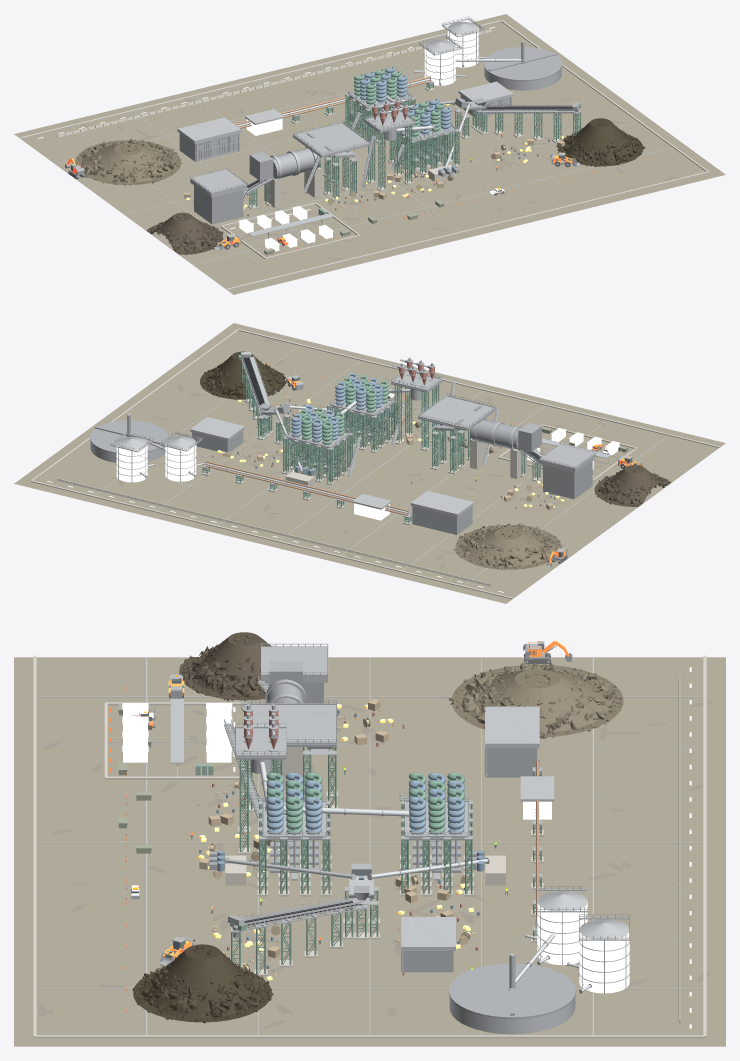
File: washplant.glb
3 views of the same model, one above another, from view 1: azimuth 30°, elevation 25°; view 2: azimuth 150°, elevation 25°; view 3: azimuth 270°, elevation 25° (orthographic). The views are drawn at different scales.
Visible parts, largest first — view 1: structure/mat_8b8166_46, galv/galv, structure/green, structure/concrete, structure/steelD, structure/seam, structure/waste, structure/roof, structure/white, structure/oreRich, scree/waste, structure/clad (+12 smaller); view 2: structure/mat_8b8166_46, structure/green, galv/galv, structure/concrete, structure/steelD, structure/waste, structure/seam, structure/white, structure/clad, structure/roof, scree/waste, structure/blue (+11 smaller); view 3: structure/mat_8b8166_46, galv/galv, structure/concrete, structure/green, structure/steelD, structure/seam, structure/roof, structure/waste, structure/white, structure/oreRich, structure/blue, scree/waste (+12 smaller).
Part boxes in pixels (x1,y1,x2,y2): structure/mat_8b8166_46: (14,14,725,294); galv/galv: (190,16,581,240); structure/green: (249,68,581,207); structure/concrete: (20,20,708,290); structure/steelD: (194,47,579,224); structure/seam: (55,34,671,276); structure/waste: (75,140,181,185); structure/roof: (177,81,513,236); structure/white: (38,27,494,229); structure/oreRich: (558,118,643,166); scree/waste: (75,139,181,185); structure/clad: (179,95,511,180); structure/mat_8b8166_46: (14,323,725,603); structure/green: (202,355,540,523); galv/galv: (110,352,608,517); structure/concrete: (31,329,719,599); structure/steelD: (90,358,592,511); structure/waste: (455,525,561,569); structure/seam: (68,346,684,585); structure/white: (47,443,593,592); structure/clad: (192,423,541,534); structure/roof: (190,417,610,516); scree/waste: (454,523,562,569); structure/blue: (291,372,392,475); structure/mat_8b8166_46: (14,657,725,1046); galv/galv: (177,643,629,993); structure/concrete: (33,655,706,1038); structure/green: (231,747,541,973); structure/steelD: (209,682,575,1019); structure/seam: (39,657,700,1035); structure/roof: (170,699,554,950); structure/waste: (451,664,623,737); structure/white: (233,667,691,1028); structure/oreRich: (133,944,271,1022); structure/blue: (217,772,484,871); scree/waste: (449,662,622,738).
Size of the model in its own units: 220 by 33.56 by 170.
Materials: 45 (7 with a texture image).
